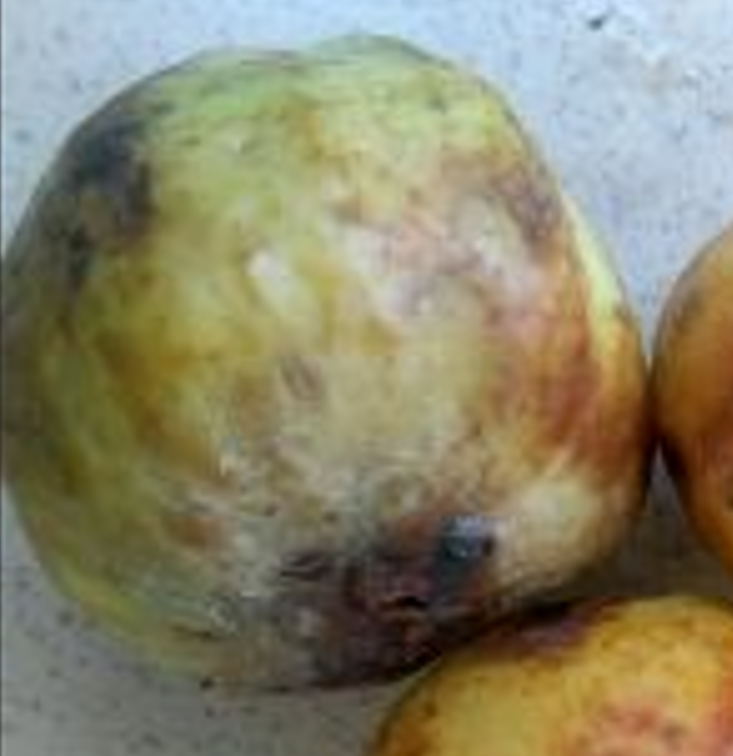guava_C: (1, 33, 661, 691)
